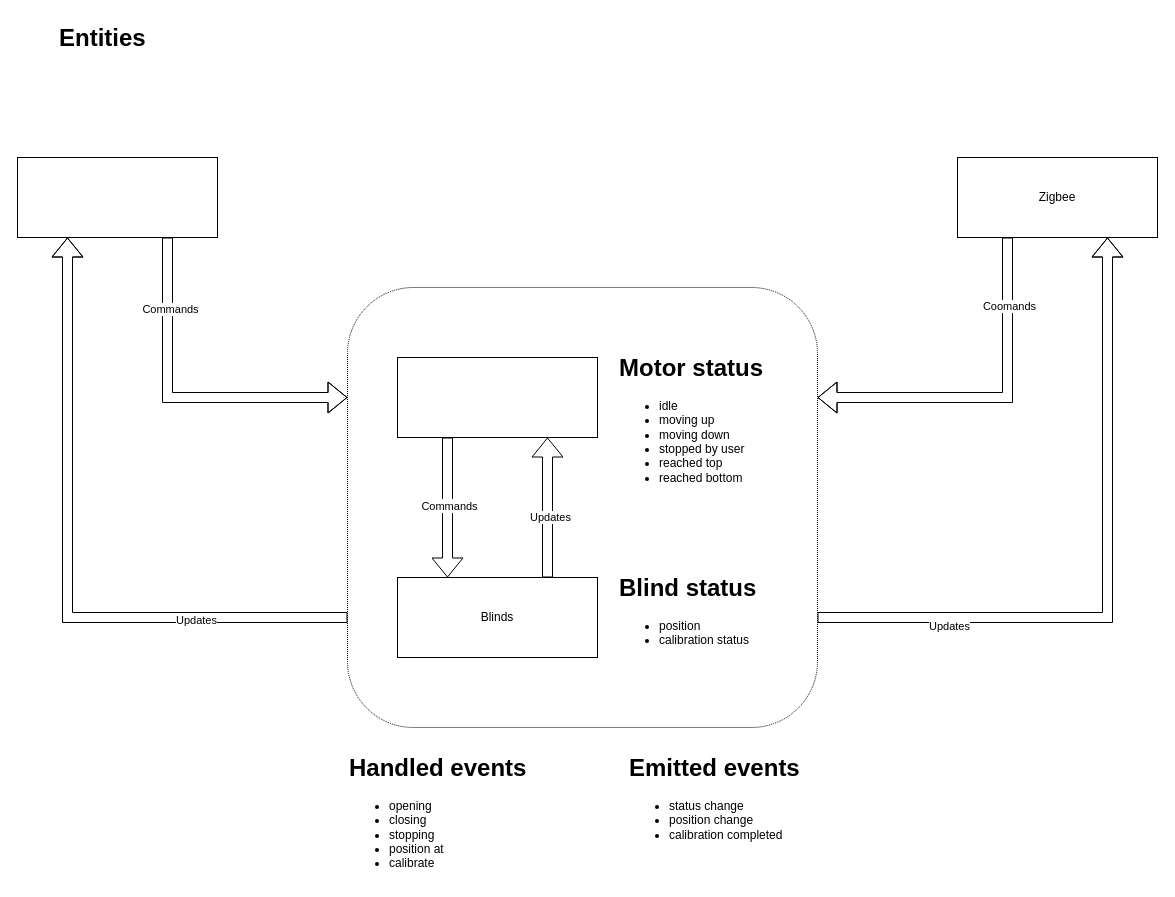
Image size: 1175x897. Some labels were removed from this diagram. The centre of each missing label's shape, as x and y in pixels:
Buttons: point 117,197
Motors: point 497,397
